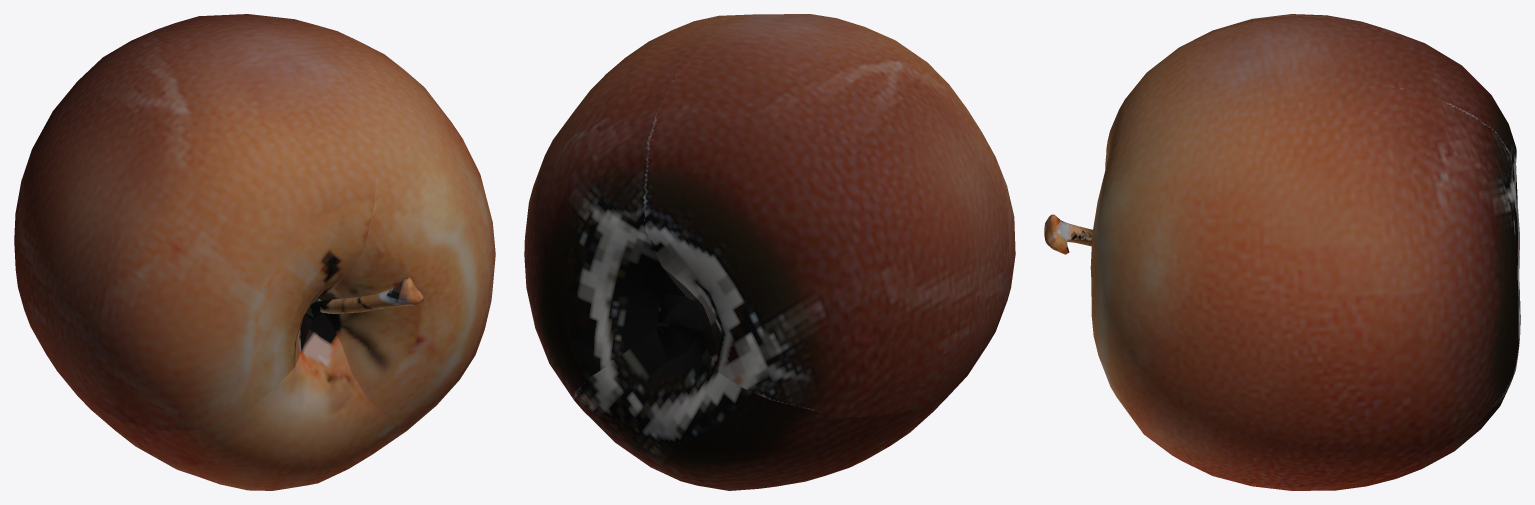
Rendered from textured.vis.glb.
3 renders of one model, left to right at view 1: azimuth 30°, elevation 25°; view 2: azimuth 150°, elevation 25°; view 3: azimuth 270°, elevation 25°, orthographic.
Parts seen in each view (by area): view 1: apple_low_obj_Material__35_0-mesh; view 2: apple_low_obj_Material__35_0-mesh; view 3: apple_low_obj_Material__35_0-mesh.
Boxes of the visible parts, bbox=[...] form: apple_low_obj_Material__35_0-mesh: bbox=[14, 14, 495, 490]; apple_low_obj_Material__35_0-mesh: bbox=[524, 14, 1015, 490]; apple_low_obj_Material__35_0-mesh: bbox=[1044, 14, 1520, 490].
Size of the model in its own units: 0.08 by 0.08 by 0.08.
Materials: 1 (1 with a texture image).
